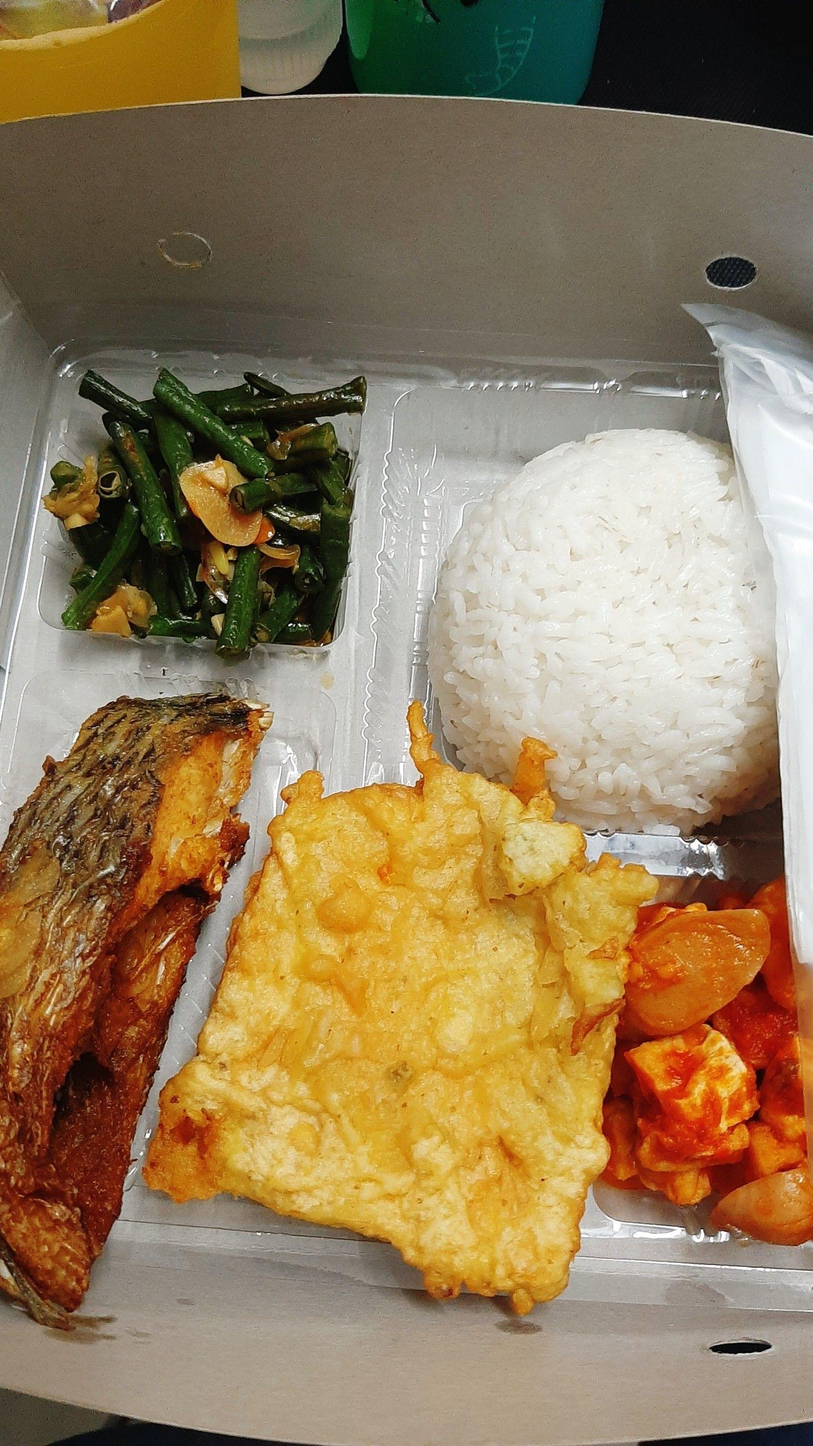buah_sayur_lainnya: (104, 391, 318, 618)
buah_sayur_vitA: (654, 940, 785, 1171)
daging: (35, 766, 154, 1115)
kacang_legume: (289, 833, 519, 1233)
makanan_berpati: (500, 526, 719, 701)
